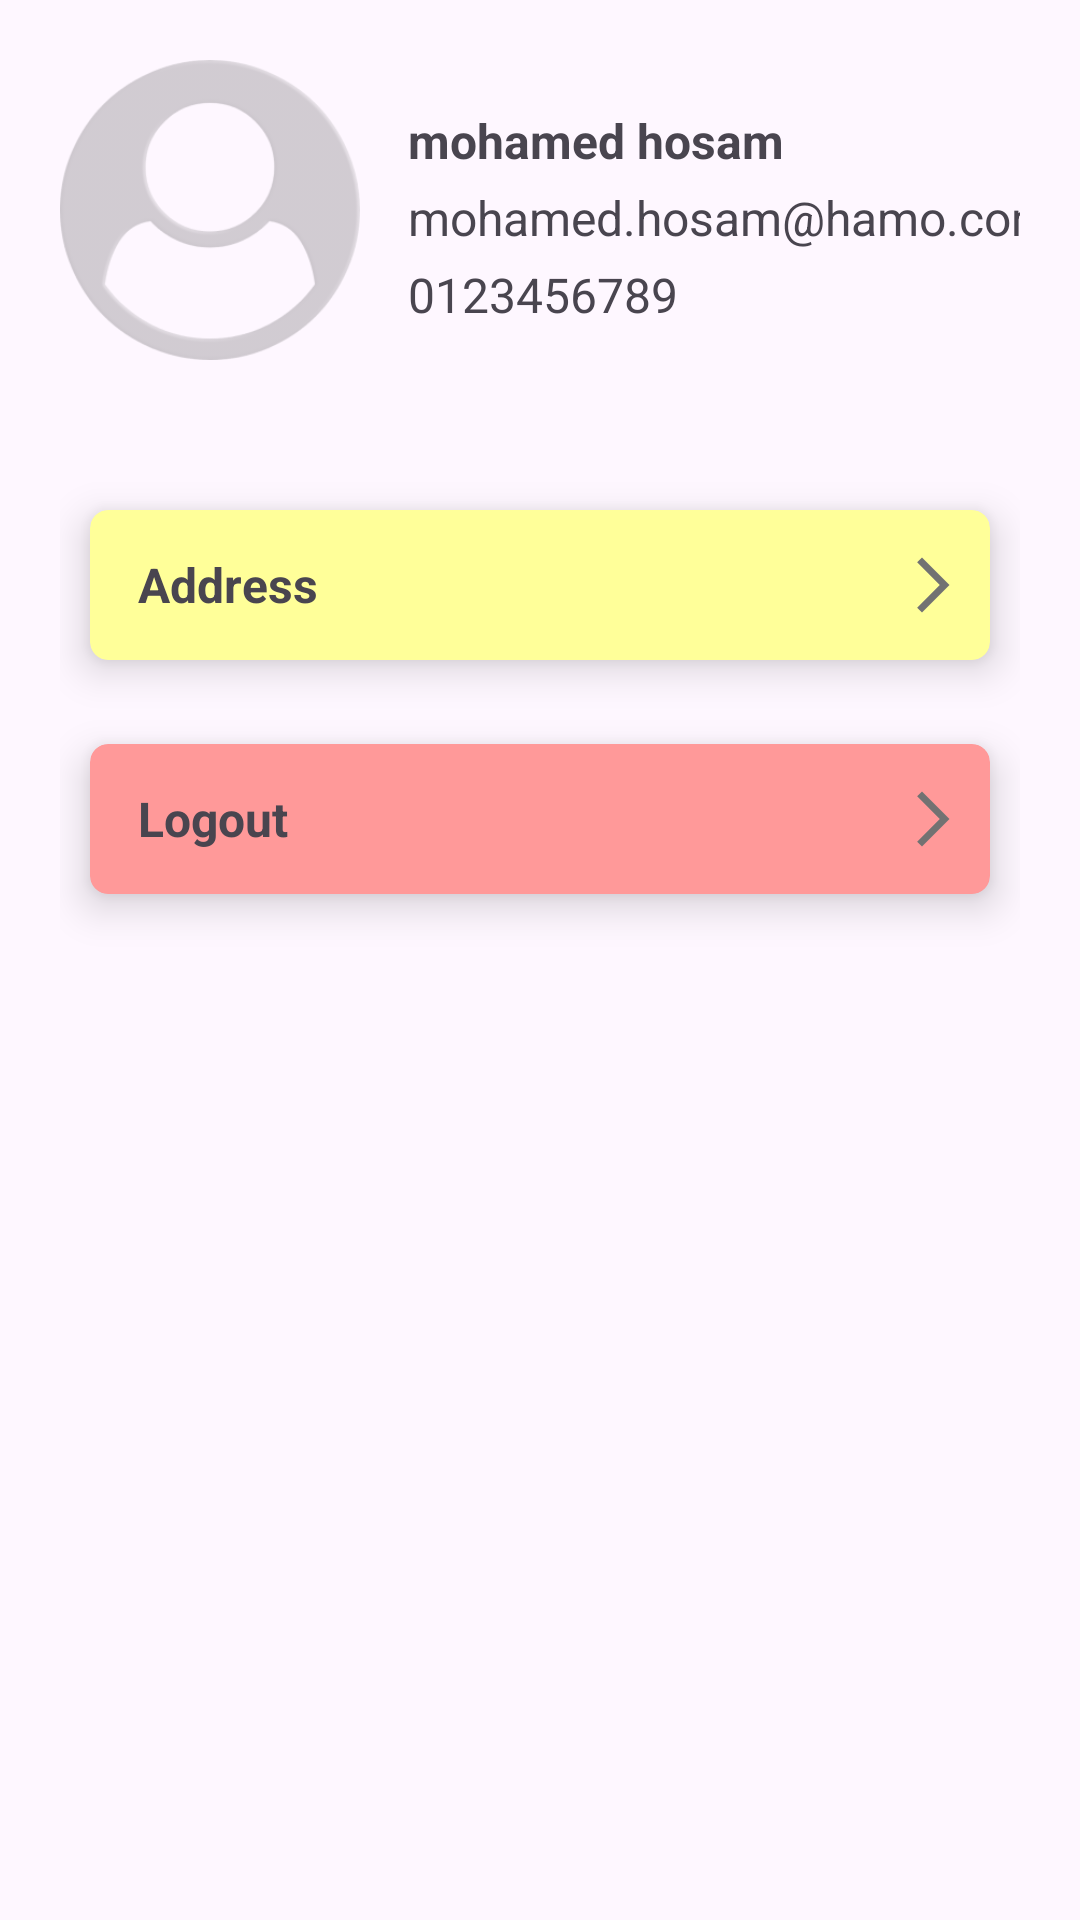

Where to tap for icons on this 1080 x 1920 app screen, as (x,y):
arrow forward: (933,585), (933,819)
person: (210,210)
